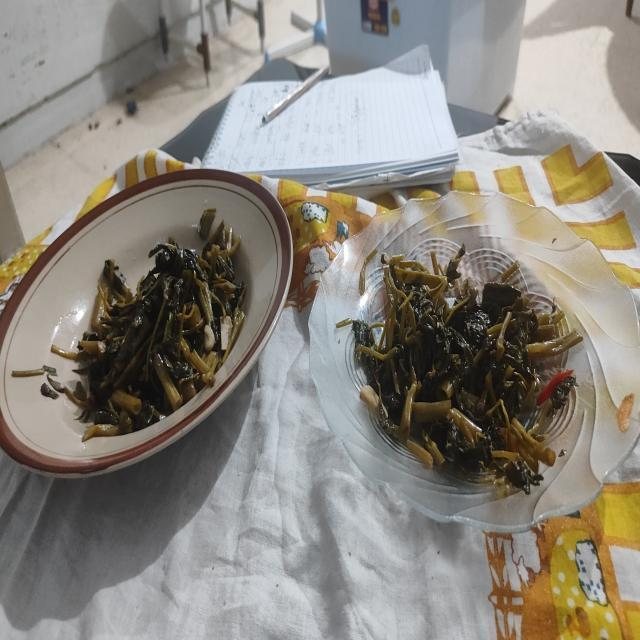tumis_kangkung: (352, 244, 582, 497), (64, 208, 247, 442)
